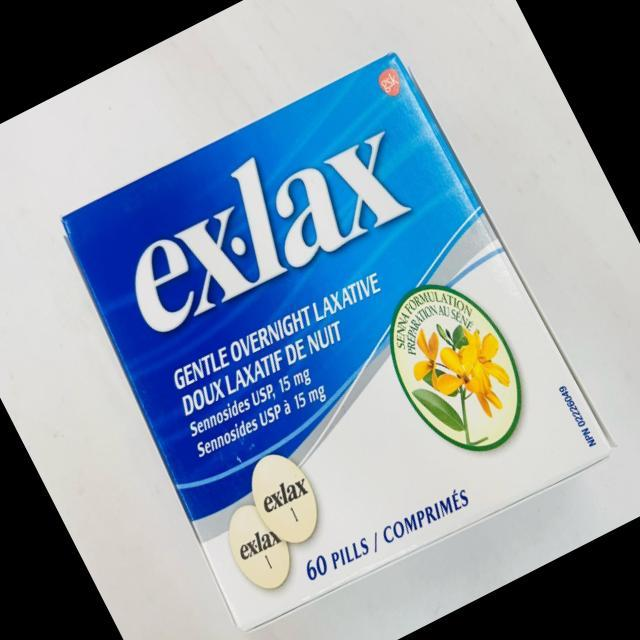Medicine Name: (87, 81, 444, 365)
